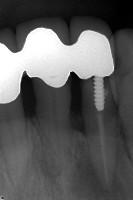Furcation Involvement: (74, 127, 132, 200), (31, 131, 63, 185)
